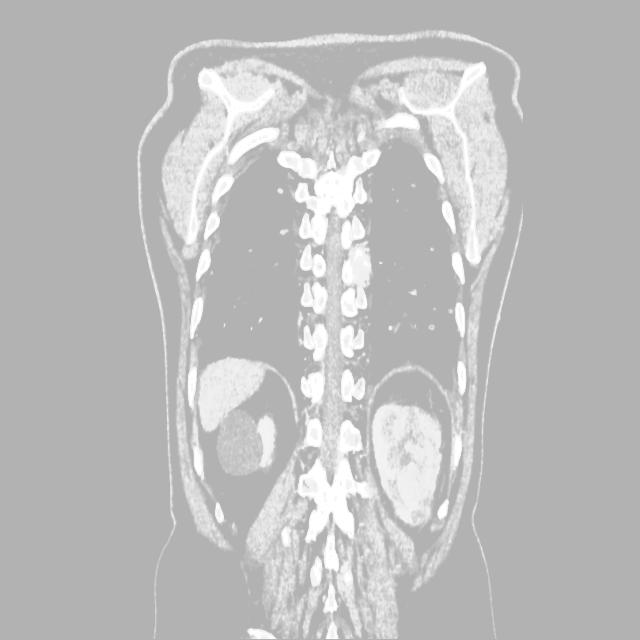TUMOR: (117, 321, 548, 583)
